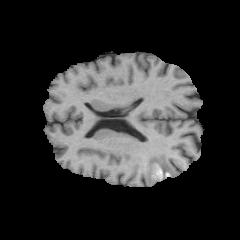glioma: (144, 153, 179, 185)
